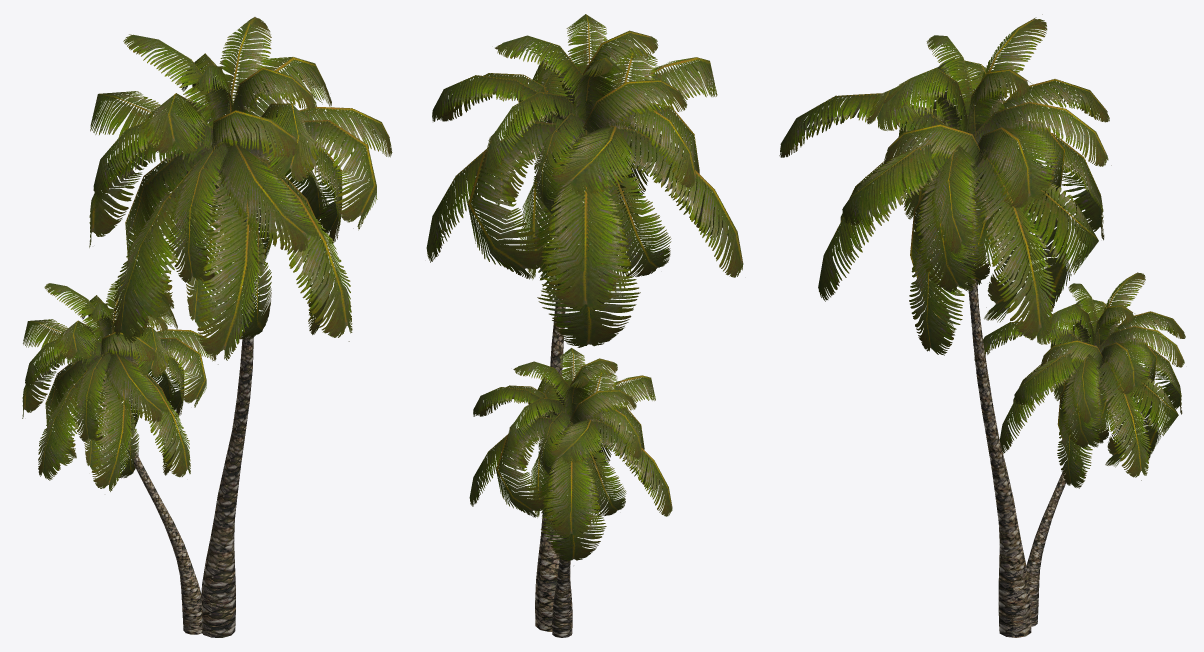
The model's file is flora_tree_palm_tropical_v4.glb.
3 views of the same model, side by side, from view 1: azimuth 30°, elevation 25°; view 2: azimuth 150°, elevation 25°; view 3: azimuth 270°, elevation 25° (orthographic). The views are drawn at different scales.
Parts seen in each view (by area): view 1: flora_tree_palm_tropical_v4_part0; view 2: flora_tree_palm_tropical_v4_part0; view 3: flora_tree_palm_tropical_v4_part0.
Boxes of the visible parts, x1,y1,x2,y2 form: flora_tree_palm_tropical_v4_part0: [22, 17, 392, 637]; flora_tree_palm_tropical_v4_part0: [426, 14, 743, 637]; flora_tree_palm_tropical_v4_part0: [779, 14, 1185, 637].
Bounding box in the file's own units: 13.29 × 25.64 × 16.67.
1 material, 1 textured.
